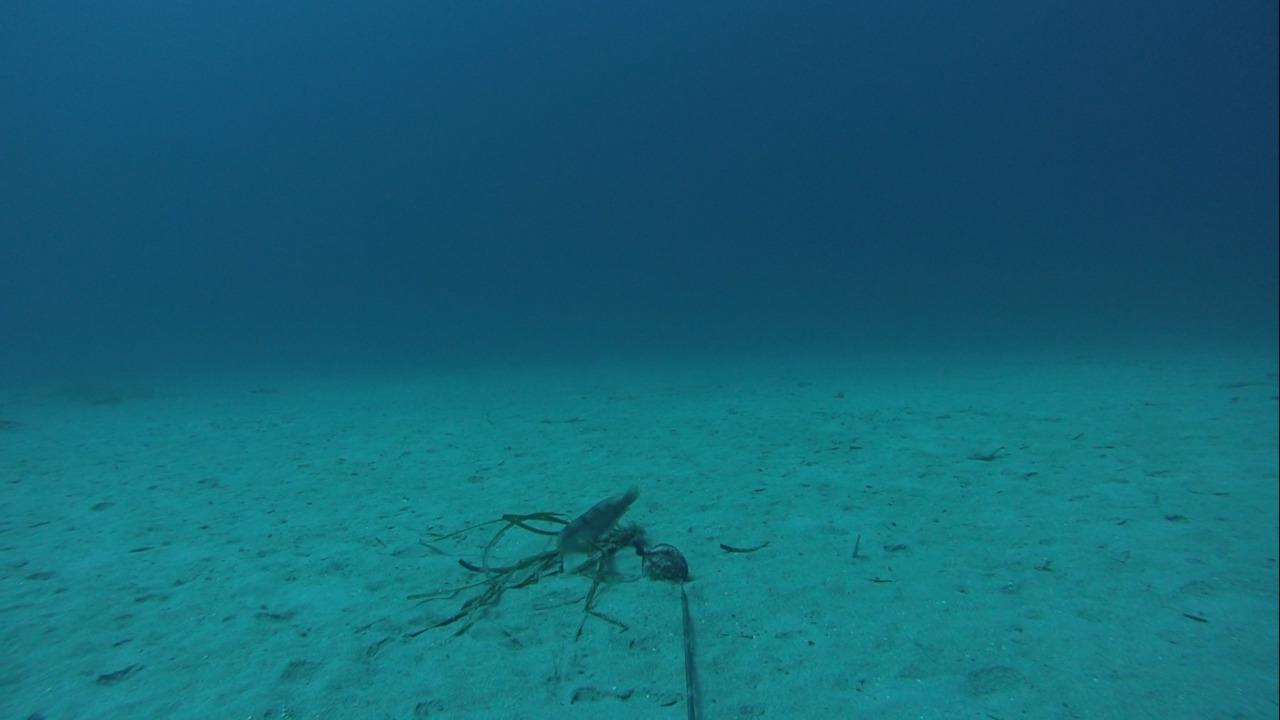raor: (554, 484, 642, 562)
